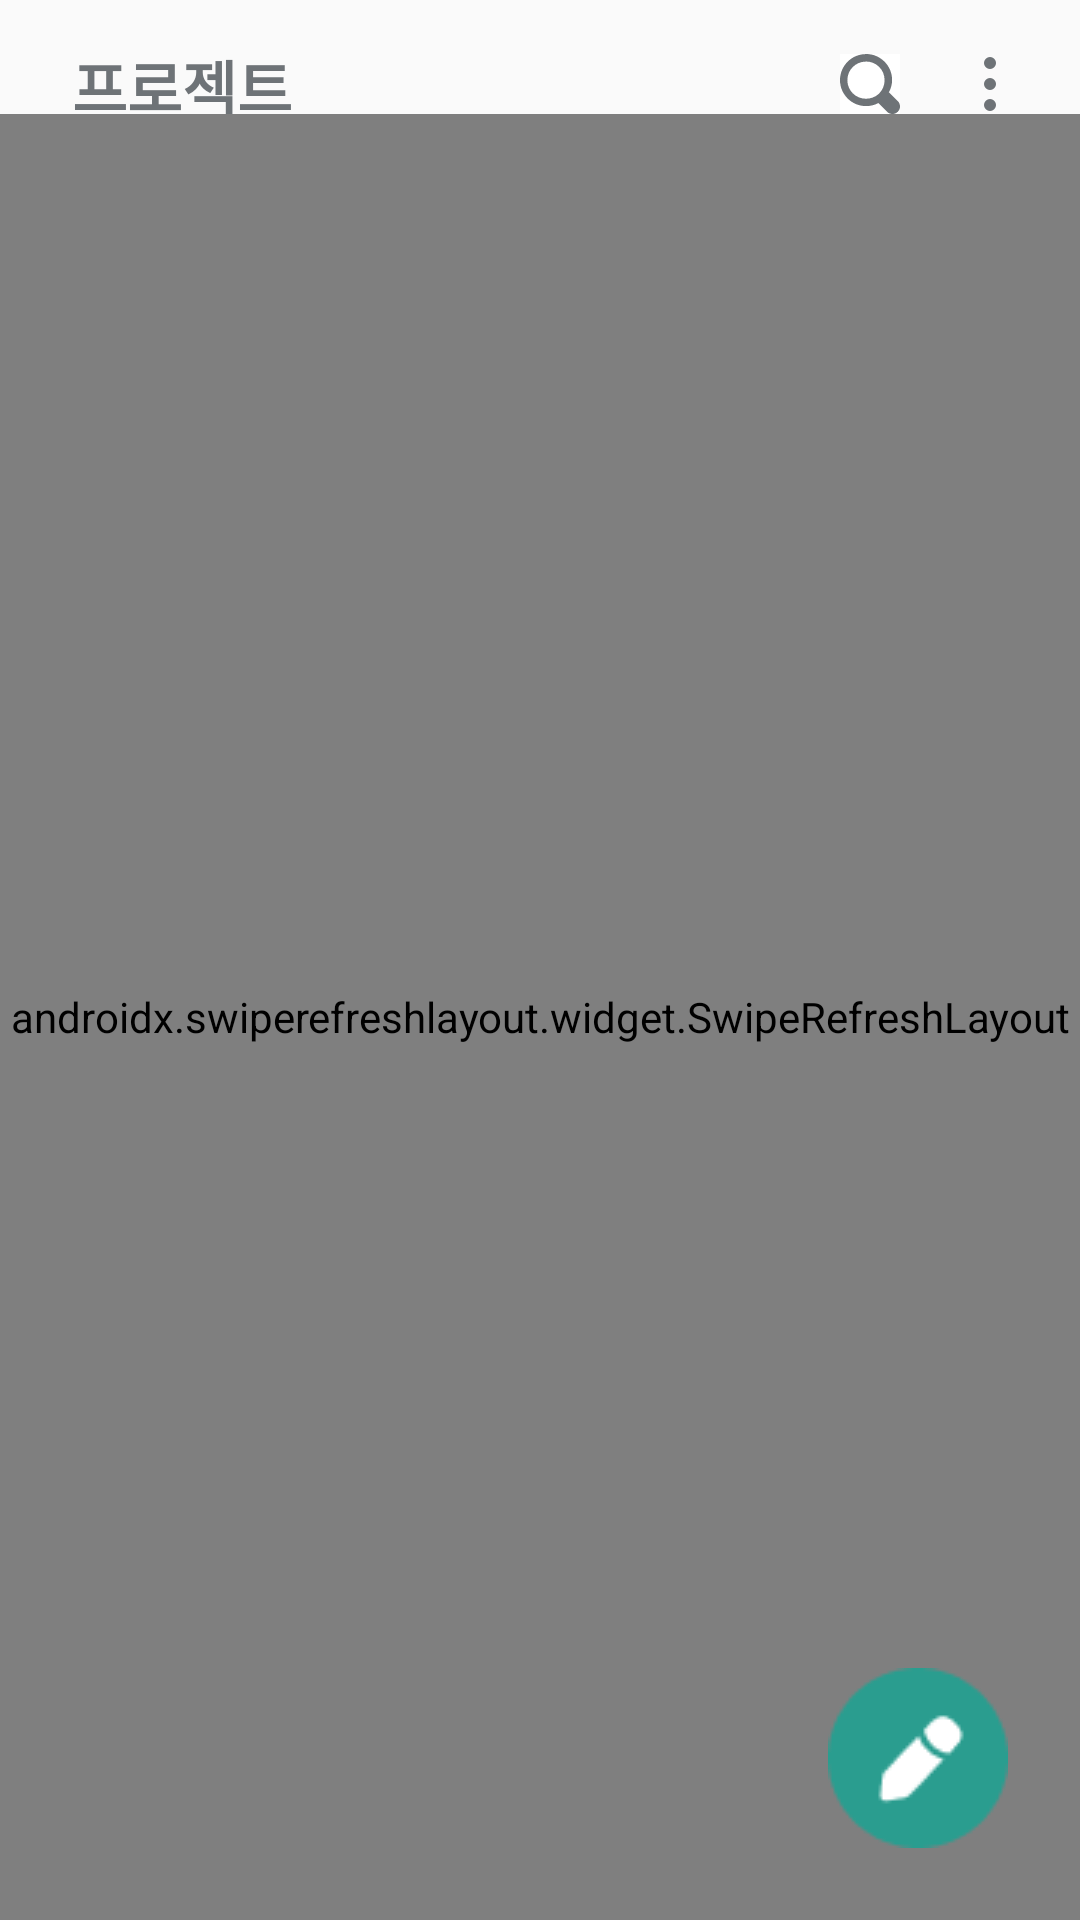

Point at icon controls on the screen. Image size 1080 x 1920, points as [x,y].
search: [870,84]
writebtn: [918,1758]
